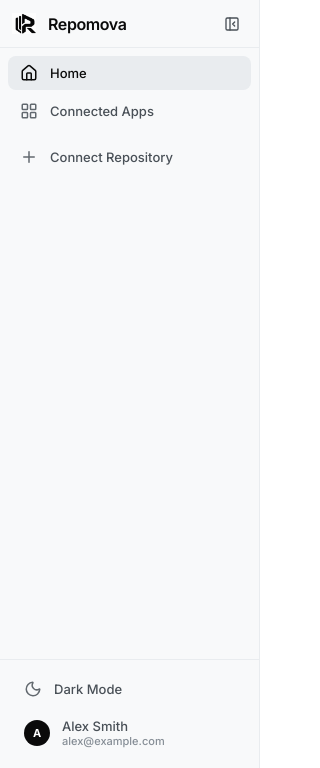
Test case: Authentication Flow, Dedicated Pages & Profile Menu › Profile Menu for Signed-In Users › displays user avatar and info in the profile menu
Click the button "A Alex Smith alex@example.com".
click(130, 733)  # box [12,710,247,756]
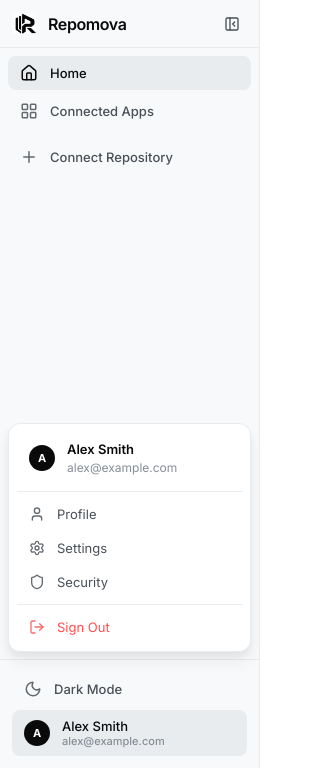
Check: the 1st text "Alex Smith" is shown, box [67,440,134,456]
Check: the 1st text "alex@example.com" is shown, box [67,460,177,475]
